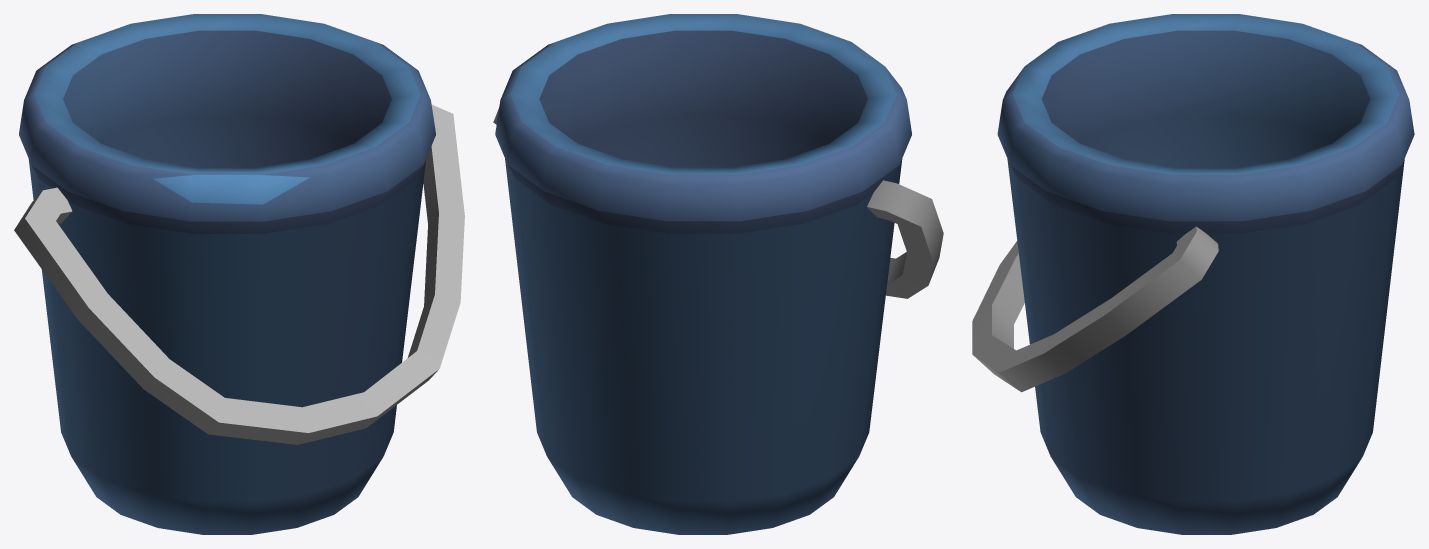
File: Bucket.fbx
The picture shows the model from 3 angles, left to right: view 1: azimuth 30°, elevation 25°; view 2: azimuth 150°, elevation 25°; view 3: azimuth 270°, elevation 25°; orthographic projection.
Parts seen in each view (by area): view 1: Bucket; view 2: Bucket; view 3: Bucket.
Part boxes in pixels (bbox=[...]): Bucket: bbox=[14, 14, 464, 534]; Bucket: bbox=[493, 14, 943, 534]; Bucket: bbox=[972, 14, 1414, 534].
Bounding box in the file's own units: 1.35 × 1.15 × 1.21.
